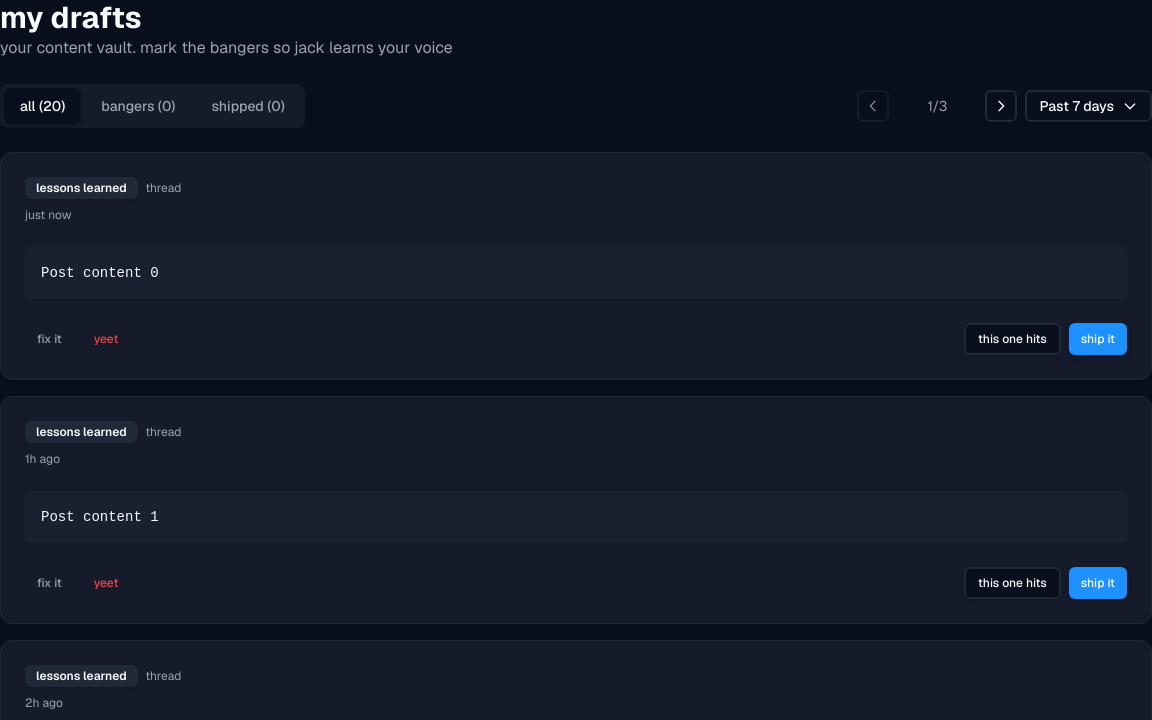
Posts List - Pagination Integration › Page Navigation › should show correct posts on last page with partial items
// Navigate to last page
Click the button named "Next page". click: point(1001, 106)
box: x1=985 y1=90 x2=1017 y2=122
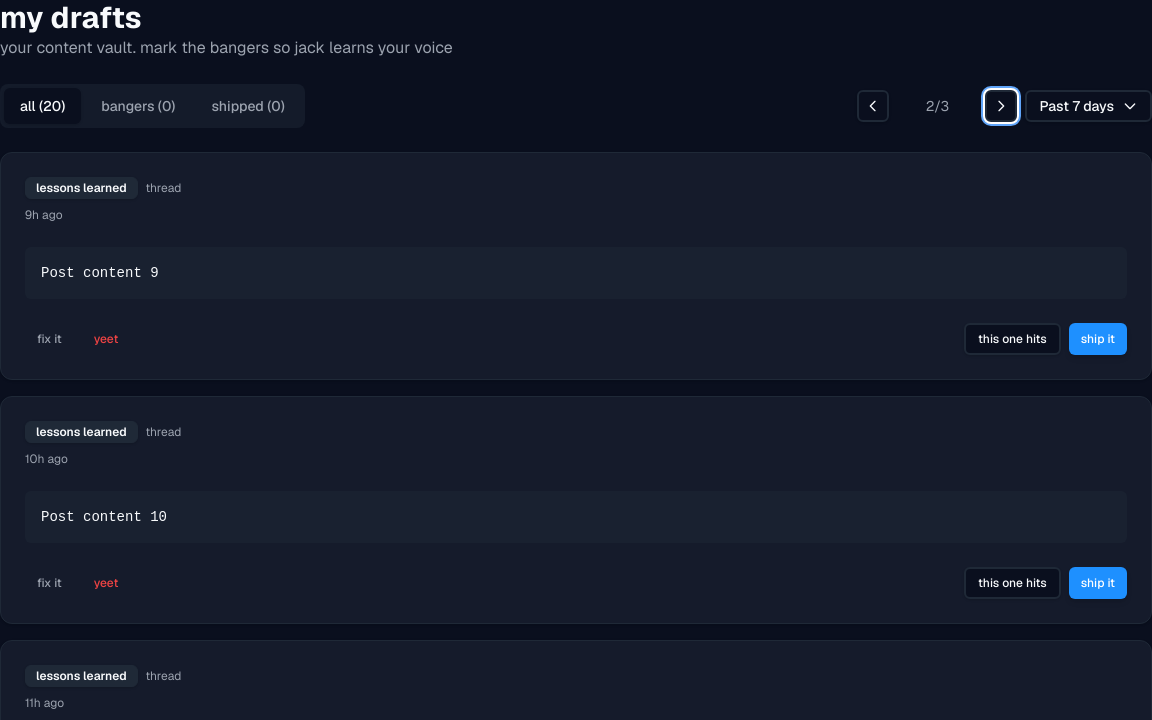
Click the button named "Next page". click: point(1001, 106)
box: x1=985 y1=90 x2=1017 y2=122
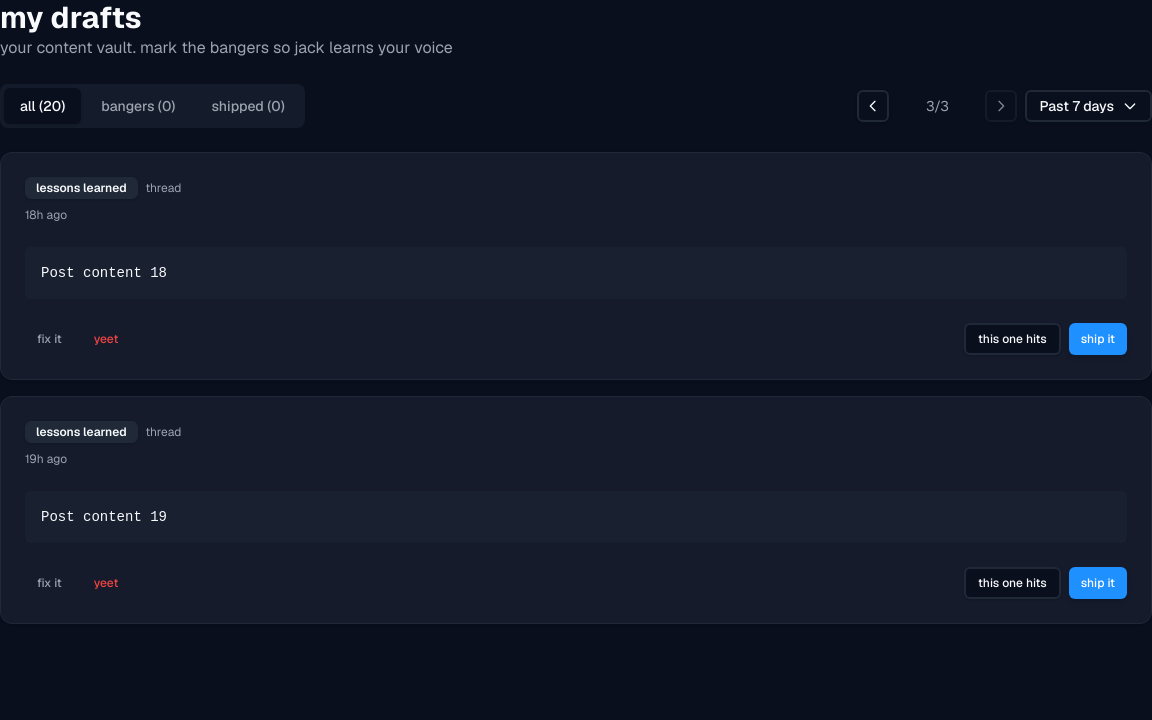
Result: the text "Post content 18" is shown 2 times at x1=25 y1=247 x2=1127 y2=299; x1=25 y1=491 x2=1127 y2=543
Result: the text "Post content 18" is shown at x1=25 y1=247 x2=1127 y2=299
Result: the text "Post content 19" is shown at x1=25 y1=491 x2=1127 y2=543
